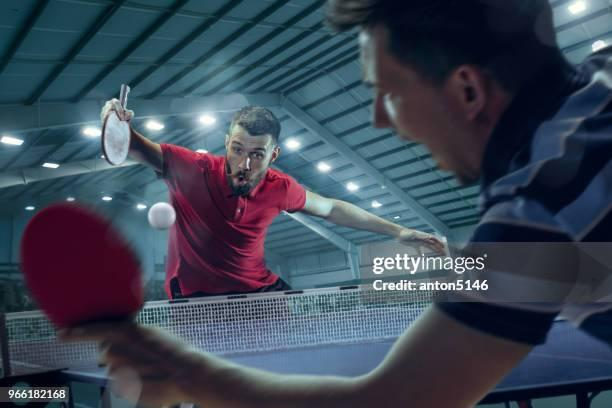ball_pingpong: (147, 201, 179, 229)
